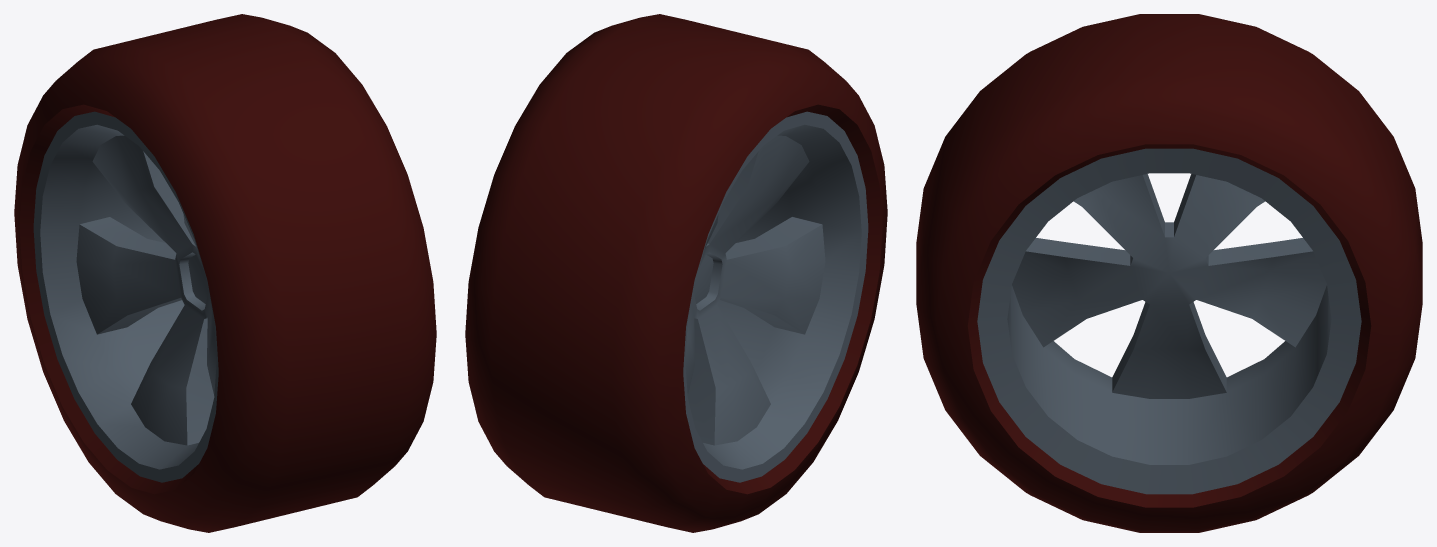
3 renders of one model, left to right at view 1: azimuth 30°, elevation 25°; view 2: azimuth 150°, elevation 25°; view 3: azimuth 270°, elevation 25°, orthographic.
Visible parts, largest first — view 1: W1B; view 2: W1B; view 3: W1B.
Part boxes in pixels (box(x1,y1,x2,y2)): W1B: box(14, 14, 436, 532); W1B: box(465, 14, 887, 532); W1B: box(916, 14, 1422, 532).
Size of the model in its own units: 14.02 by 28.35 by 28.56.
